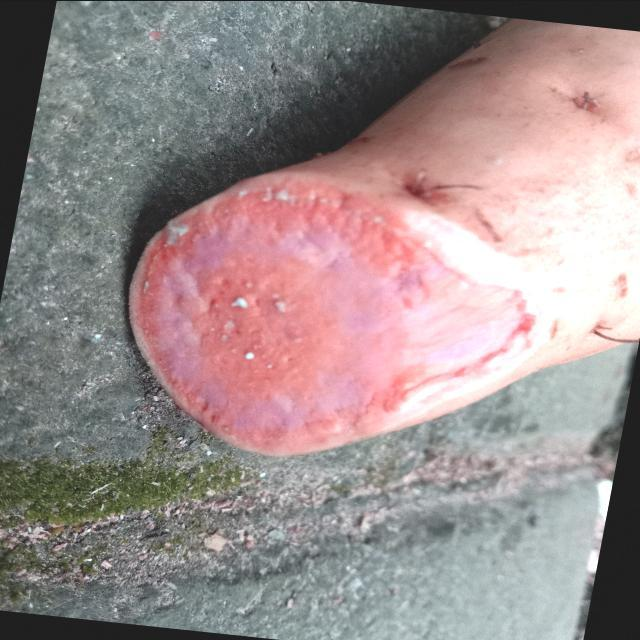Healthy Sweet Potato: (130, 170, 555, 455)
